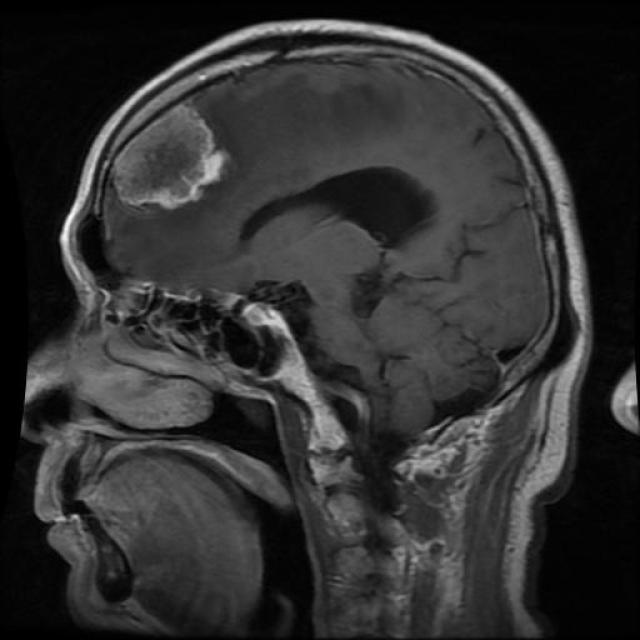meningioma: (112, 108, 224, 210)
